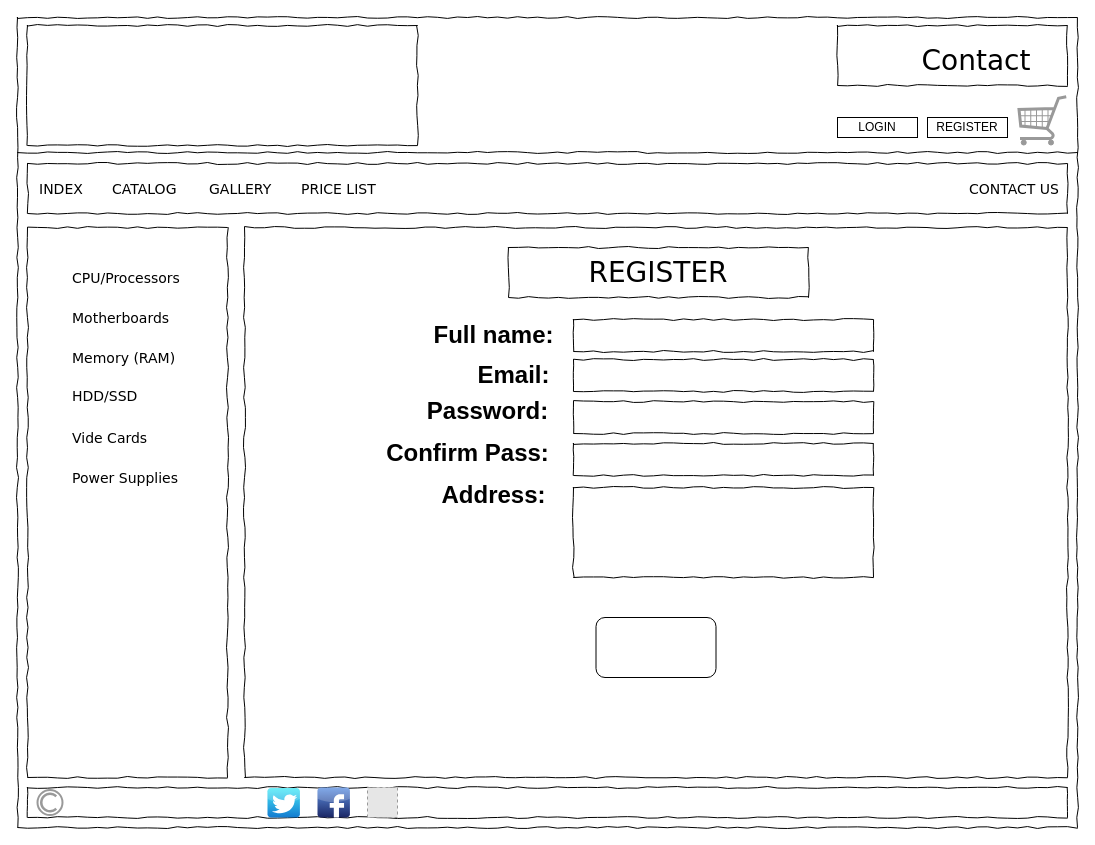
Image size: 1095x845. Some labels were removed from this diagram. Grey dashed boxes stand in for pictures. Here are the shapes that lost their labels. From the top down, the box of each, then its label:
(26, 24, 418, 146): LOGO
(595, 616, 716, 678): SUBMIT
